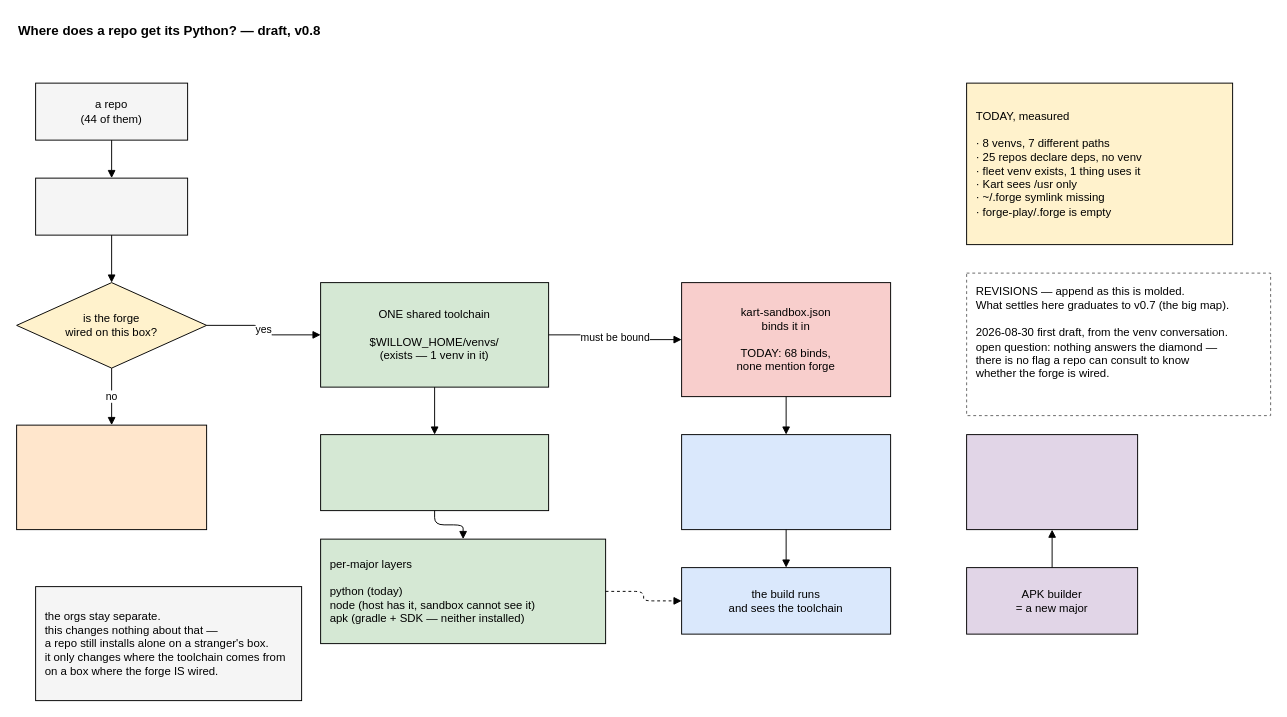
Some shapes in this 1287 by 717 pixel diagram are drawn without their labels. Here are the shapes that lost their labels. From the top down, the centre of each, then its label:
At pixel 111 206: "needs to run something test · lint · build".
At pixel 111 477: "its own .venv the fallback 8 exist today 25 repos have none".
At pixel 434 472: "base layer pytest · ruff · build what every repo needs".
At pixel 786 482: "Kart sandbox a build is a shell command its stdout is the plan".
At pixel 1052 482: "plan.py has no notion of majors yet a 2nd major forces it".
